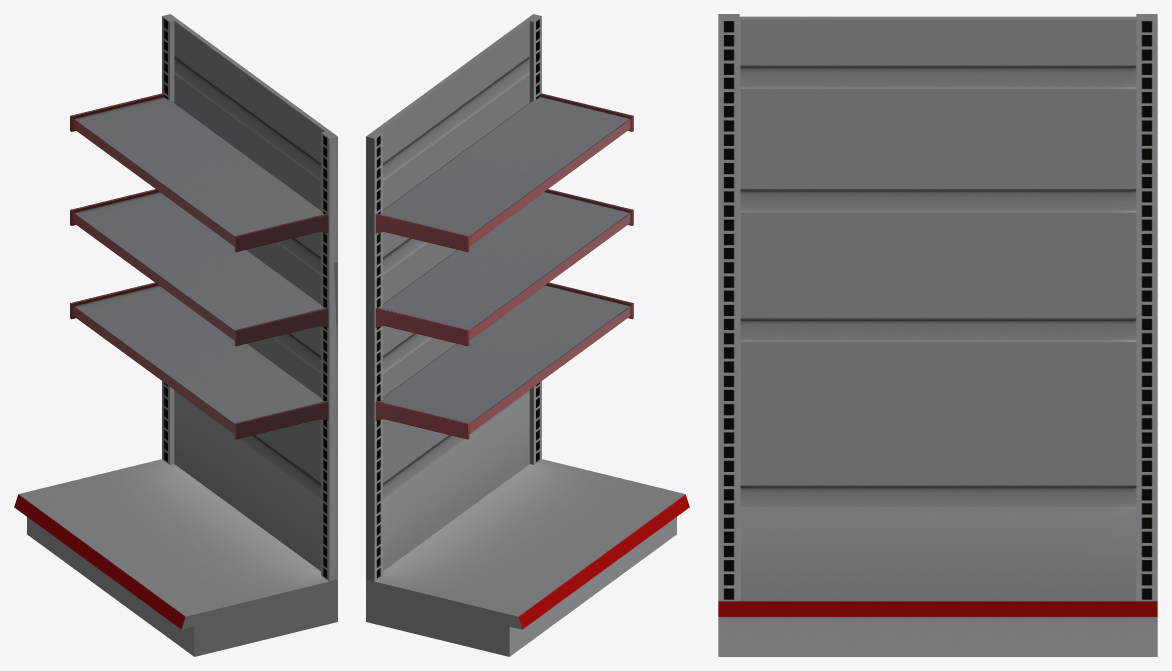
The model's file is sp_rack_4.FBX.
3 renders of one model, left to right at view 1: azimuth 30°, elevation 25°; view 2: azimuth 150°, elevation 25°; view 3: azimuth 270°, elevation 25°, orthographic. The views are drawn at different scales.
Visible parts, largest first — view 1: sp_rack_4; view 2: sp_rack_4; view 3: sp_rack_4.
Boxes of the visible parts, bbox=[...] form: sp_rack_4: bbox=[14, 14, 337, 656]; sp_rack_4: bbox=[366, 14, 689, 656]; sp_rack_4: bbox=[718, 14, 1157, 656].
Size of the model in its own units: 21.26 by 39.37 by 62.99.
